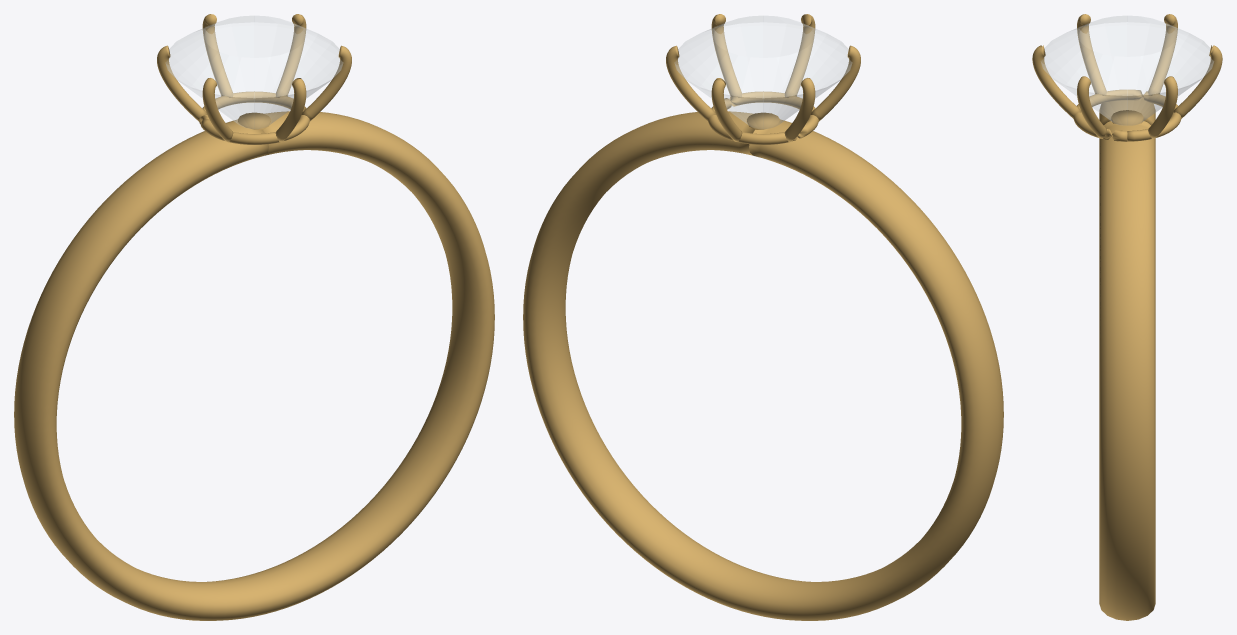
The model's file is settings-six-prong.glb.
3 views of the same model, side by side, from view 1: azimuth 30°, elevation 25°; view 2: azimuth 150°, elevation 25°; view 3: azimuth 270°, elevation 25° (orthographic). The views are drawn at different scales.
Parts seen in each view (by area): view 1: Band, Gem, Lower gallery, Prong.001, Prong, Prong.002, Prong.005, Prong.004, Prong.003; view 2: Band, Gem, Lower gallery, Prong.004, Prong.005, Prong.003, Prong, Prong.001, Prong.002; view 3: Band, Gem, Lower gallery, Prong.002, Prong.003, Prong.001, Prong.004, Prong, Prong.005, Head stem.
Part boxes in pixels (<box>): Band: <box>14,111,494,620</box>; Gem: <box>166,15,342,128</box>; Lower gallery: <box>199,91,309,144</box>; Prong.001: <box>202,14,233,97</box>; Prong: <box>276,14,306,97</box>; Prong.002: <box>157,45,207,121</box>; Prong.005: <box>301,45,351,121</box>; Prong.004: <box>275,78,306,141</box>; Prong.003: <box>202,78,233,142</box>; Band: <box>523,111,1003,620</box>; Gem: <box>675,15,851,128</box>; Lower gallery: <box>708,91,818,144</box>; Prong.004: <box>784,14,815,97</box>; Prong.005: <box>711,14,741,97</box>; Prong.003: <box>810,45,860,121</box>; Prong: <box>666,45,716,121</box>; Prong.001: <box>711,78,742,141</box>; Prong.002: <box>784,78,815,142</box>; Band: <box>1099,98,1155,620</box>; Gem: <box>1041,15,1213,125</box>; Lower gallery: <box>1073,89,1181,141</box>; Prong.002: <box>1148,14,1177,95</box>; Prong.003: <box>1077,14,1106,95</box>; Prong.001: <box>1173,45,1222,118</box>; Prong.004: <box>1032,45,1081,118</box>; Prong: <box>1148,76,1177,138</box>; Prong.005: <box>1077,76,1106,138</box>; Head stem: <box>1111,110,1143,124</box>.
Bounding box in the file's own units: 19.6 × 22.94 × 7.06.
